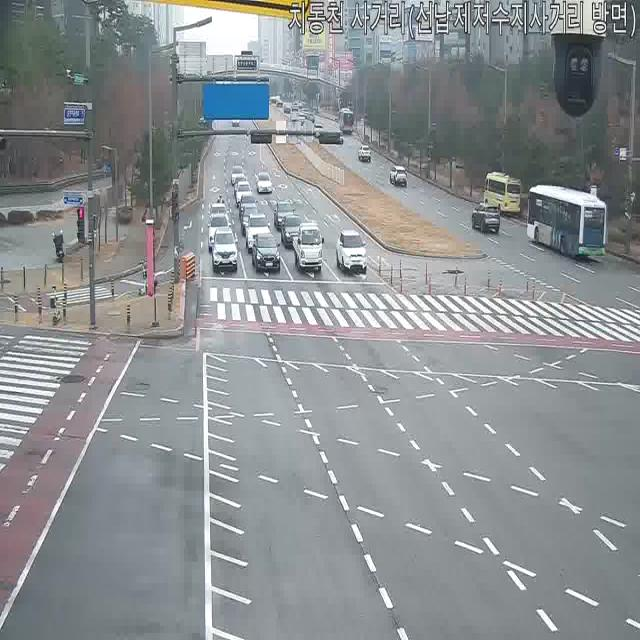Bus: (524, 184, 609, 262), (482, 172, 524, 216), (338, 107, 354, 135)
Car: (482, 172, 524, 216), (335, 229, 367, 275), (210, 228, 238, 274), (251, 233, 281, 274), (244, 213, 271, 252), (471, 202, 501, 234), (207, 214, 232, 251), (281, 214, 306, 249), (273, 198, 295, 230), (239, 207, 263, 235), (208, 201, 230, 231), (239, 193, 258, 220), (235, 181, 252, 207), (389, 165, 407, 187), (255, 172, 273, 194), (230, 165, 246, 187), (358, 145, 371, 163), (313, 124, 325, 138), (272, 96, 282, 108), (298, 111, 306, 125), (283, 103, 292, 115)
Motorcycle: (214, 191, 225, 214)
Truck: (294, 221, 324, 273)
